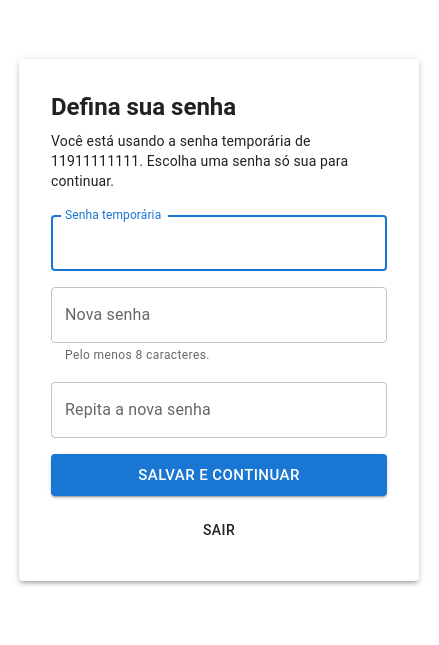
it: erro do servidor › mostra a recusa e mantém a pessoa na tela
In the password field labelled "Senha temporária": (219, 243) [51,215,387,271], type "novasenha123"
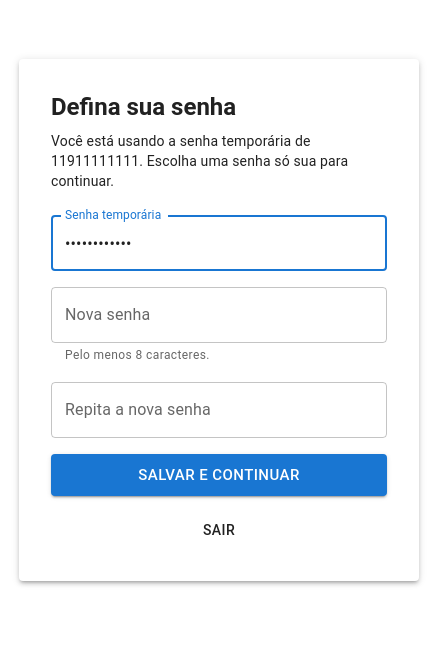
In the password field labelled "Nova senha": (219, 315) [51,287,387,343], type "minhaSenhaBoa9"
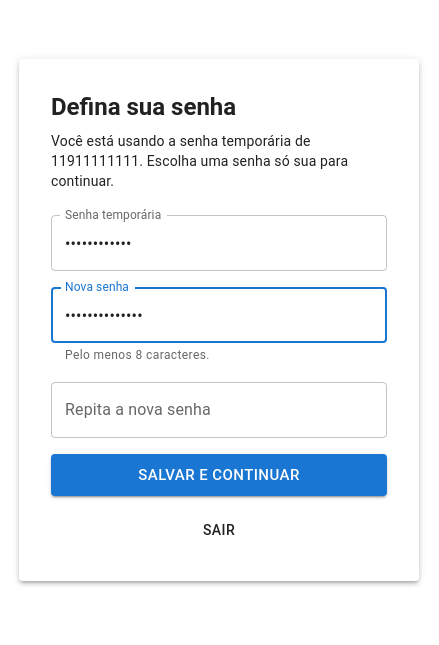
In the password field labelled "Repita a nova senha": (219, 410) [51,382,387,438], type "minhaSenhaBoa9"
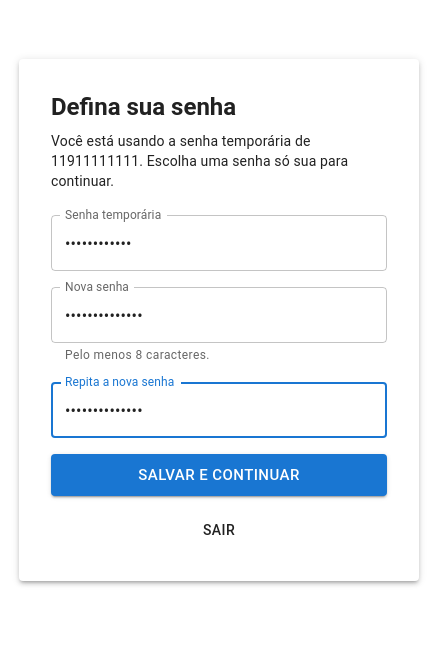
Click the button "Salvar e continuar": (219, 475) [51,454,387,496]
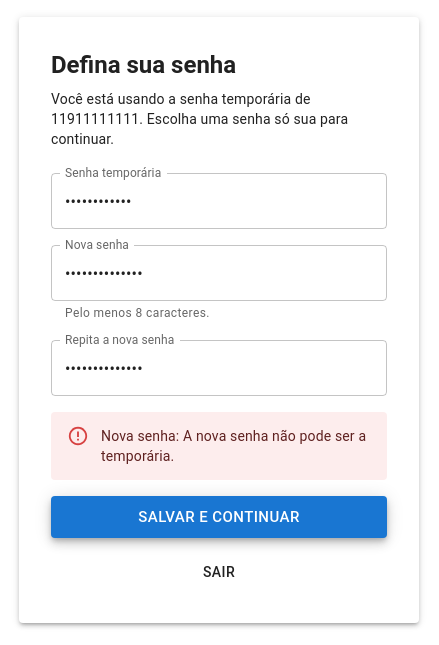
expect the button "Salvar e continuar" is shown: met, box [51,496,387,538]
expect the text "Nova senha: A nova senha não pode ser a temporária." is shown: met, box [101,418,371,474]
